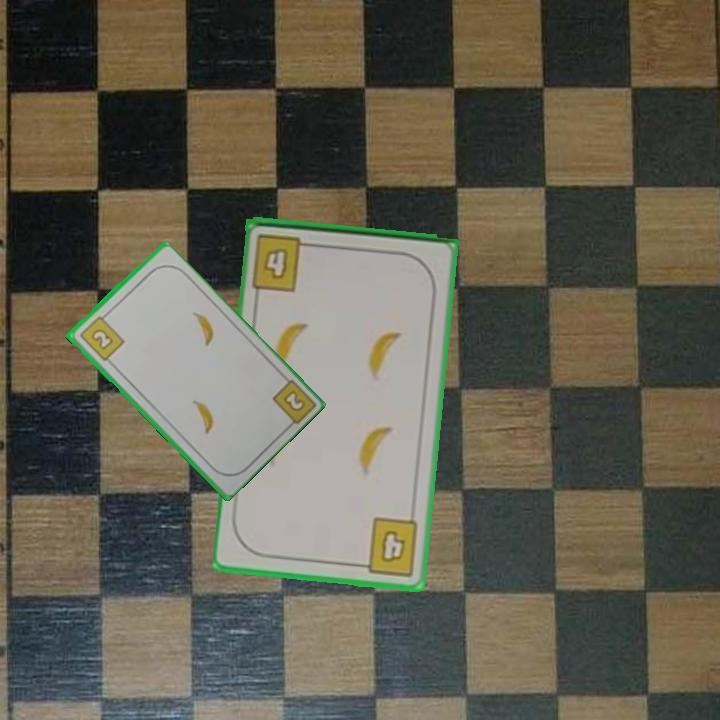2b: (75, 310, 127, 364), (279, 387, 308, 415)
4b: (353, 514, 422, 579), (248, 230, 318, 294)
